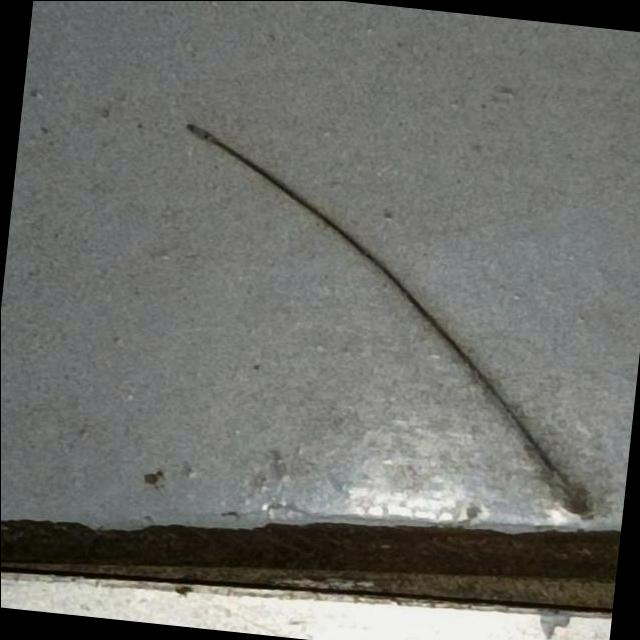defect: (173, 112, 599, 521)
